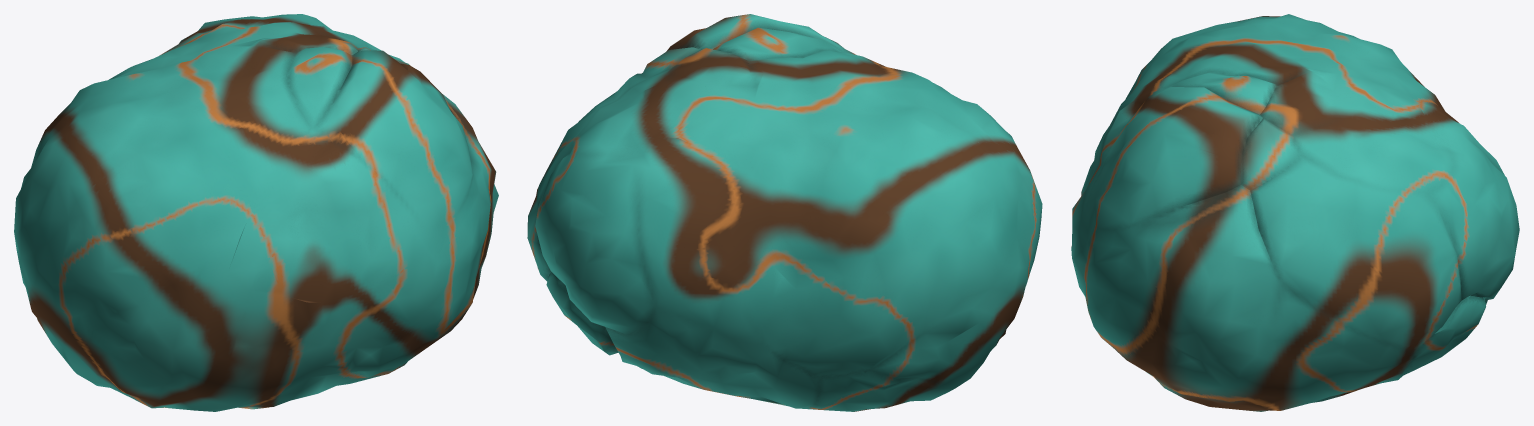
The model's file is turquesa_bruta.fbx.
3 renders of one model, left to right at view 1: azimuth 30°, elevation 25°; view 2: azimuth 150°, elevation 25°; view 3: azimuth 270°, elevation 25°, orthographic.
Visible parts, largest first — view 1: turquesa_bruta; view 2: turquesa_bruta; view 3: turquesa_bruta.
Boxes of the visible parts, left/top/right/bottom form: turquesa_bruta: left=14, top=14, right=498, bottom=411; turquesa_bruta: left=527, top=14, right=1042, bottom=411; turquesa_bruta: left=1071, top=14, right=1519, bottom=411.
Size of the model in its own units: 2.7 by 1.81 by 2.45.
1 material, 1 textured.
